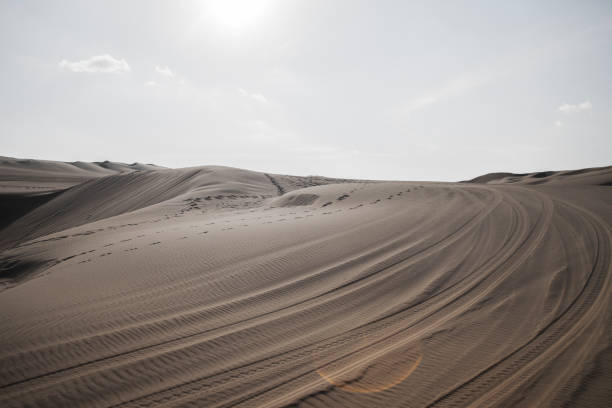vehicle_track: (0, 185, 611, 406), (432, 199, 611, 406), (390, 199, 552, 346), (2, 329, 210, 388), (264, 173, 284, 195), (151, 344, 168, 357), (283, 388, 302, 399)
